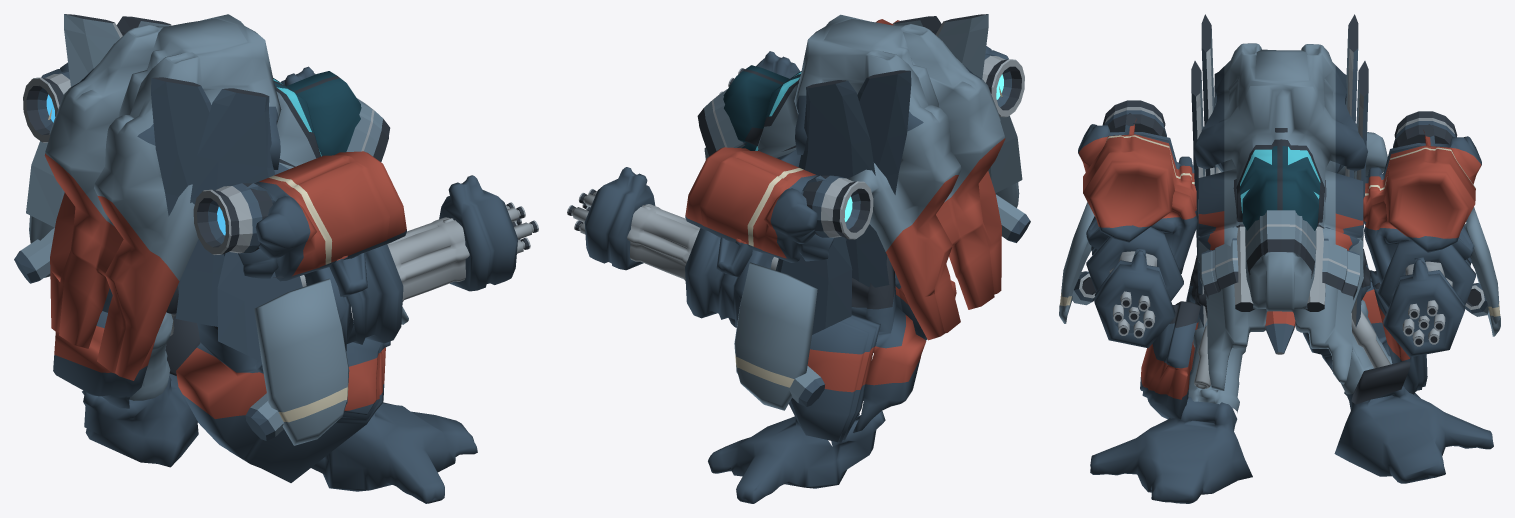
The model's file is viking_rig.glb.
The picture shows the model from 3 angles, left to right: view 1: azimuth 30°, elevation 25°; view 2: azimuth 150°, elevation 25°; view 3: azimuth 270°, elevation 25°; orthographic projection. The views are drawn at different scales.
Parts seen in each view (by area): view 1: TrunkMesh, EnginePMesh, KneePMesh, WingPMesh, GunPMesh, AnklePMesh, WingFlapPMesh, TailNMesh, TailPMesh, KneeNMesh, ShoulderPMesh, AnkleNMesh (+7 smaller); view 2: TrunkMesh, EngineNMesh, KneeNMesh, WingNMesh, AnkleNMesh, GunNMesh, WingFlapNMesh, TailPMesh, TailNMesh, ShoulderNMesh, WingGloveNMesh, WingTipNMesh (+8 smaller); view 3: TrunkMesh, NoseMesh, EnginePMesh, EngineNMesh, AnklePMesh, AnkleNMesh, KneePMesh, KneeNMesh, ShoulderPMesh, ShoulderNMesh, GunNMesh, GunPMesh (+10 smaller).
Boxes of the visible parts, x1,y1,x2,y2 form: TrunkMesh: (45, 14, 390, 280); EnginePMesh: (193, 151, 406, 278); KneePMesh: (176, 323, 390, 482); WingPMesh: (245, 278, 349, 445); GunPMesh: (387, 175, 517, 301); AnklePMesh: (311, 402, 477, 503); WingFlapPMesh: (175, 88, 275, 326); TailNMesh: (44, 153, 116, 348); TailPMesh: (97, 195, 179, 380); KneeNMesh: (53, 285, 200, 408); ShoulderPMesh: (267, 229, 406, 351); AnkleNMesh: (82, 374, 198, 467); TrunkMesh: (697, 14, 1004, 251); EngineNMesh: (685, 147, 873, 260); KneeNMesh: (789, 284, 926, 442); WingNMesh: (734, 262, 824, 410); AnkleNMesh: (708, 411, 885, 503); GunNMesh: (584, 167, 700, 280); WingFlapNMesh: (798, 80, 889, 287); TailPMesh: (941, 138, 1005, 309); TailNMesh: (886, 175, 960, 340); ShoulderNMesh: (685, 216, 809, 326); WingGloveNMesh: (857, 70, 911, 262); WingTipNMesh: (775, 175, 852, 334); TrunkMesh: (1193, 43, 1387, 311); NoseMesh: (1198, 201, 1363, 390); EnginePMesh: (1078, 100, 1196, 227); EngineNMesh: (1363, 111, 1481, 238); AnklePMesh: (1090, 397, 1252, 503); AnkleNMesh: (1334, 386, 1493, 483); KneePMesh: (1140, 283, 1246, 419); KneeNMesh: (1303, 264, 1427, 404); ShoulderPMesh: (1086, 167, 1221, 300); ShoulderNMesh: (1363, 221, 1475, 307); GunNMesh: (1383, 257, 1464, 357); GunPMesh: (1094, 248, 1175, 348).
Size of the model in its own units: 0.8151 by 0.9992 by 0.9995.
Materials: 1 (1 with a texture image).
